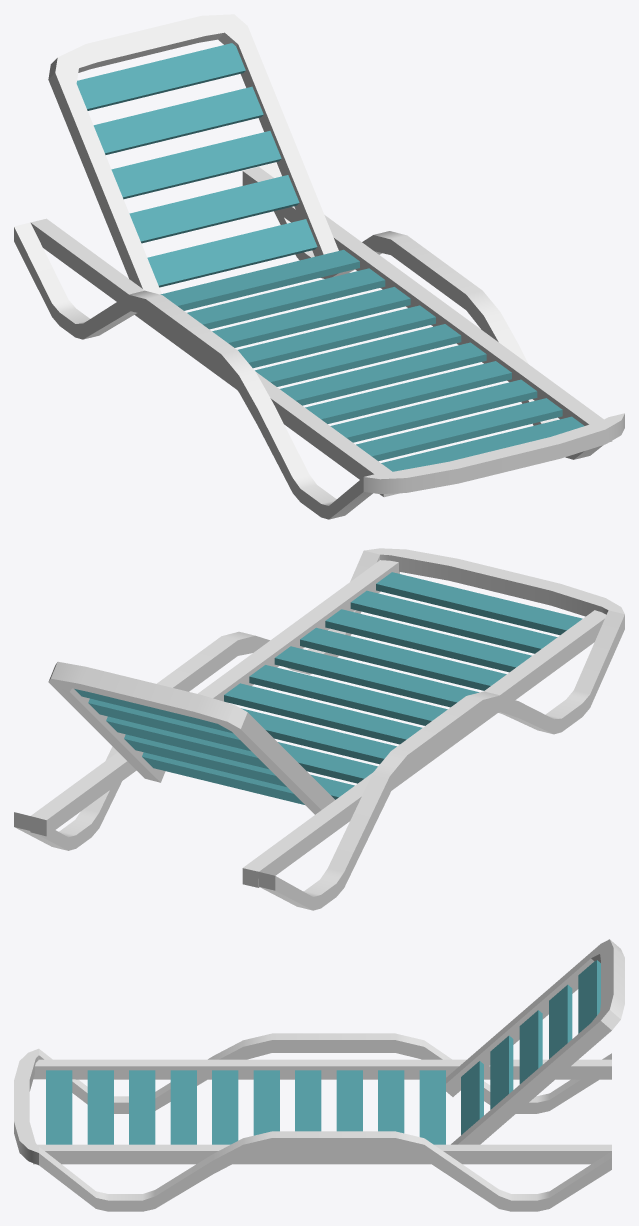
File: Sunbed_01.fbx
The picture shows the model from 3 angles, top to bottom: view 1: azimuth 30°, elevation 25°; view 2: azimuth 150°, elevation 25°; view 3: azimuth 270°, elevation 25°; orthographic projection. The views are drawn at different scales.
Parts seen in each view (by area): view 1: SM_sunbed_01; view 2: SM_sunbed_01; view 3: SM_sunbed_01.
Boxes of the visible parts, x1,y1,x2,y2 form: SM_sunbed_01: (14,14,624,519); SM_sunbed_01: (14,548,624,910); SM_sunbed_01: (14,939,624,1211).
Bounding box in the file's own units: 104 × 87.35 × 257.
1 material, 1 textured.
